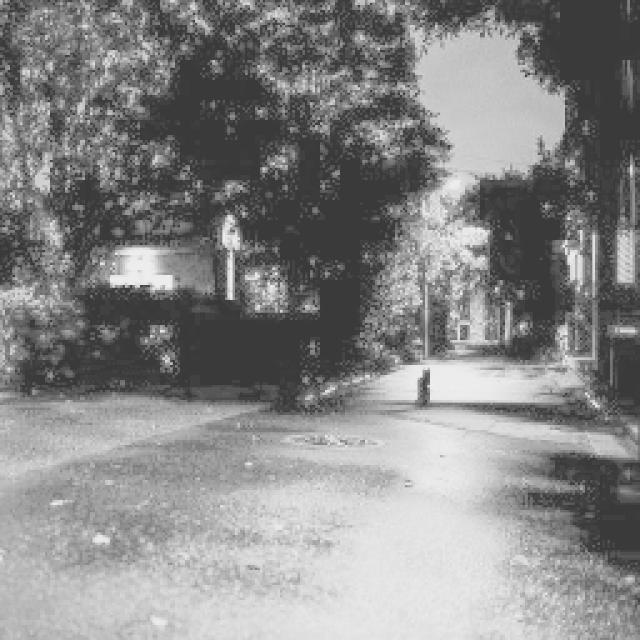cat: (413, 366, 437, 406)
